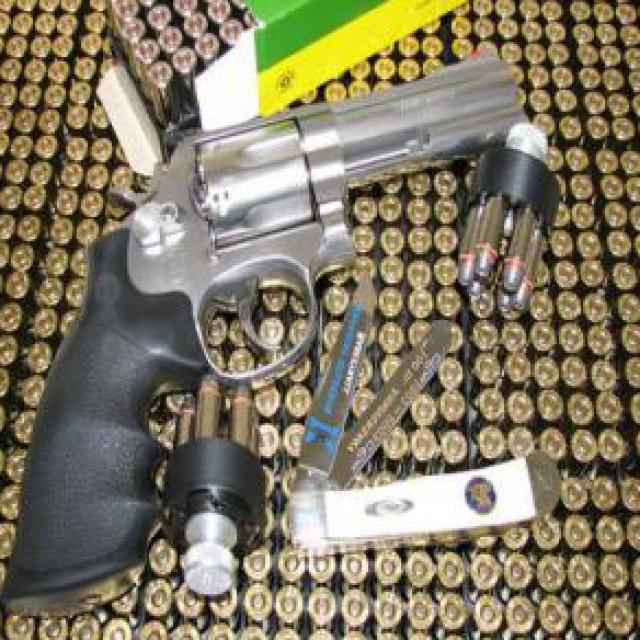pistol: (0, 43, 531, 620)
